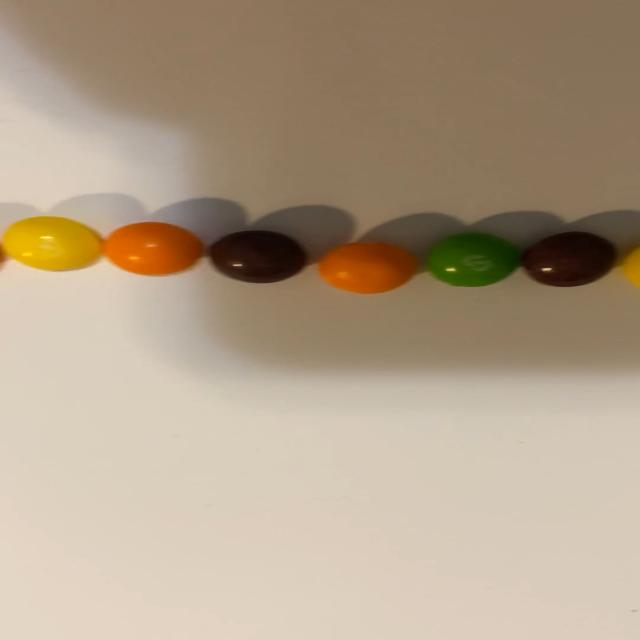smartie: (1, 216, 103, 270), (519, 231, 617, 287), (101, 222, 201, 275), (208, 230, 305, 282), (319, 242, 415, 294), (428, 232, 517, 286)
